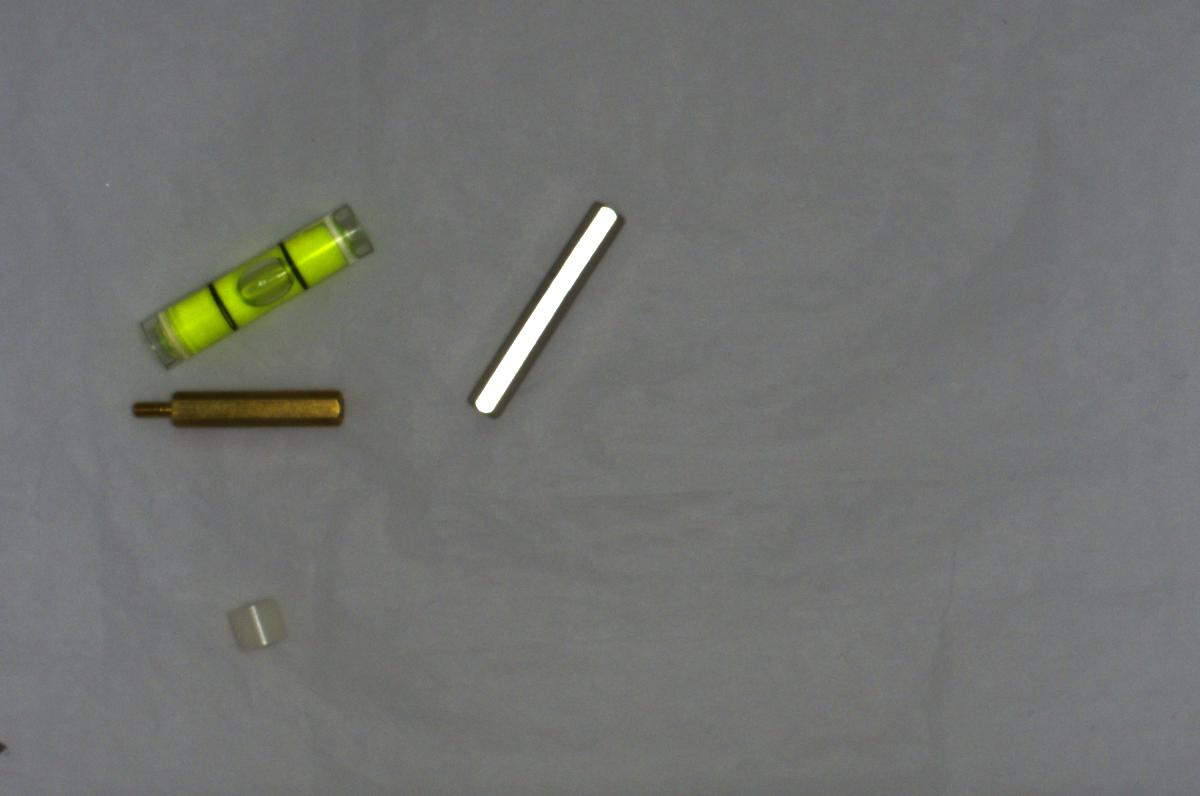Double hexagonal column: (454, 194, 628, 434)
Hexagon pillar: (124, 368, 354, 436)
Horizontal bubble: (132, 193, 375, 356)
Plastic cushion pillar: (227, 589, 295, 665)
